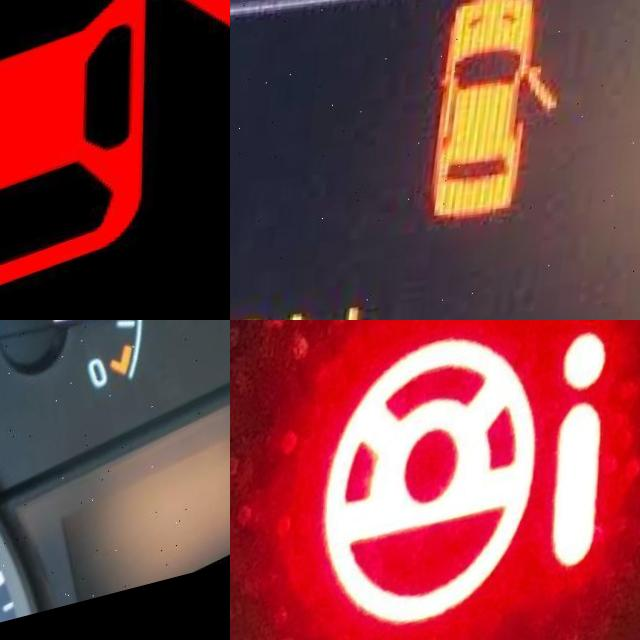Electronic Power Steering: (320, 320, 604, 640)
